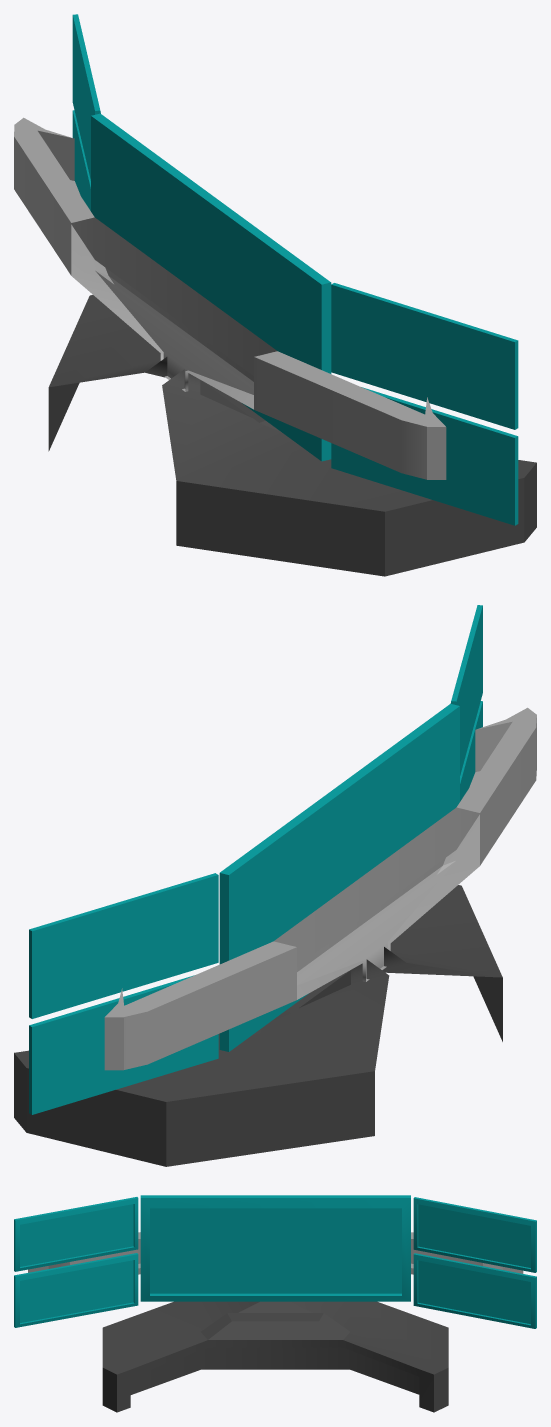
Rendered from computer_station_low.fbx.
3 renders of one model, top to bottom at view 1: azimuth 30°, elevation 25°; view 2: azimuth 150°, elevation 25°; view 3: azimuth 270°, elevation 25°, orthographic. The views are drawn at different scales.
Parts seen in each view (by area): view 1: big_monitor, Monitor_Desk, Monitor_Rack; view 2: big_monitor, Monitor_Desk, Monitor_Rack; view 3: big_monitor, Monitor_Desk, Monitor_Rack.
Part boxes in pixels (left/top/right/bottom): big_monitor: left=72, top=14, right=518, bottom=525; Monitor_Desk: left=48, top=295, right=536, bottom=576; Monitor_Rack: left=14, top=117, right=446, bottom=479; big_monitor: left=29, top=605, right=482, bottom=1114; Monitor_Desk: left=14, top=885, right=502, bottom=1166; Monitor_Rack: left=104, top=707, right=536, bottom=1070; big_monitor: left=14, top=1195, right=536, bottom=1328; Monitor_Desk: left=102, top=1301, right=448, bottom=1412; Monitor_Rack: left=28, top=1232, right=523, bottom=1274.
Size of the model in its own units: 9.54 by 8.71 by 25.5.
